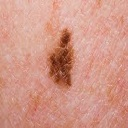Melanoma: (48, 26, 76, 92)
